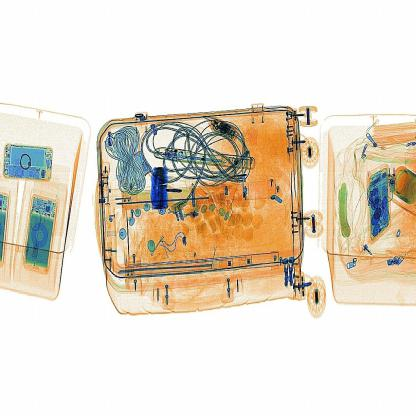scissors: (144, 155, 174, 214)
